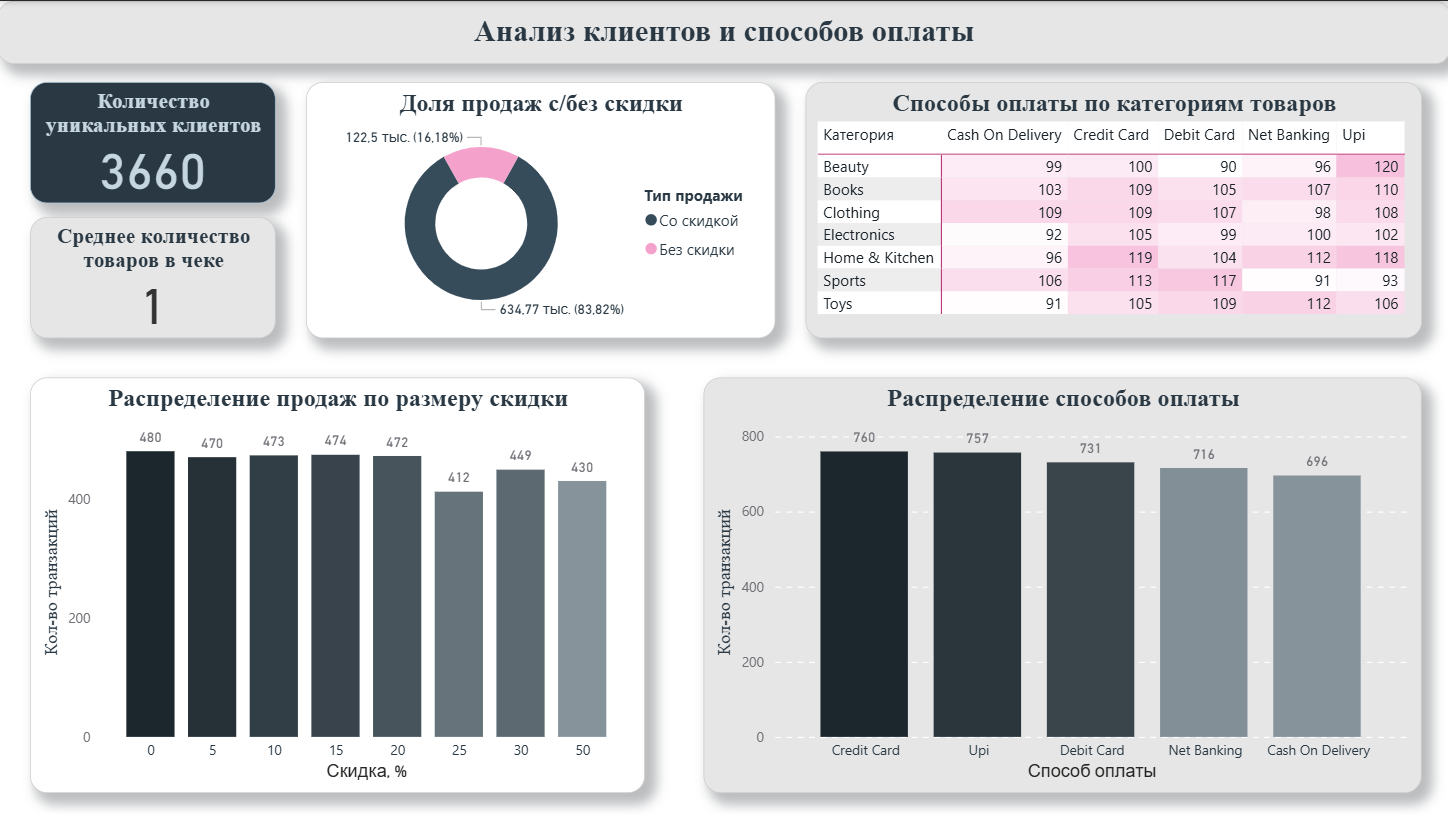

The dashboard page shown, as its layout file describes it:
{"tool":"powerbi","page":{"name":"Страница 2","canvas":[1280,720],"ordinal":1},"visuals":[{"type":"columnChart","title":"Распределение способов оплаты","fields":{"Category":["ecommerce_dataset_updated.Способ_оплаты"],"Y":["CountNonNull(ecommerce_dataset_updated.ID_пользователя)"]},"box":[621.1,331,631.7,365.3],"z":0},{"type":"textbox","box":[0,0,1279.1,55.4],"z":1},{"type":"card","title":"Количество уникальных клиентов","fields":{"Values":["Count(ecommerce_dataset_updated.ID_пользователя)"]},"box":[29,71.2,216.3,106.8],"z":2},{"type":"card","title":"Среднее количество товаров в чеке","fields":{"Values":["ecommerce_dataset_updated.Среднее_кол_тов_в_чеке"]},"box":[29,189.9,216.3,106.8],"z":3},{"type":"columnChart","title":"Распределение продаж по размеру скидки","fields":{"Category":["ecommerce_dataset_updated.Скидка_%"],"Y":["CountNonNull(ecommerce_dataset_updated.ID_товара)"]},"box":[29,331,540.7,365.3],"z":4},{"type":"pivotTable","title":"Способы оплаты по категориям товаров","fields":{"Rows":["ecommerce_dataset_updated.Категория"],"Columns":["ecommerce_dataset_updated.Способ_оплаты"],"Values":["CountNonNull(ecommerce_dataset_updated.ID_товара)"]},"box":[710.8,71.2,542,225.5],"z":5},{"type":"donutChart","title":"Доля продаж с/без скидки","fields":{"Category":["ecommerce_dataset_updated.Тип_продажи"],"Y":["ecommerce_dataset_updated.Общая_выручка"]},"box":[271.7,71.2,412.8,225.5],"z":6}]}

Visuals, with their boxes in screenshot pixels (x1, y1, x2, y2), scaled from the page's 1280x720 canvas onto the 1448x814 screenshot:
"Распределение способов оплаты" columnChart: (703, 374, 1417, 787)
textbox: (0, 0, 1447, 63)
"Количество уникальных клиентов" card: (33, 80, 277, 201)
"Среднее количество товаров в чеке" card: (33, 215, 277, 335)
"Распределение продаж по размеру скидки" columnChart: (33, 374, 644, 787)
"Способы оплаты по категориям товаров" pivotTable: (804, 80, 1417, 335)
"Доля продаж с/без скидки" donutChart: (307, 80, 774, 335)
